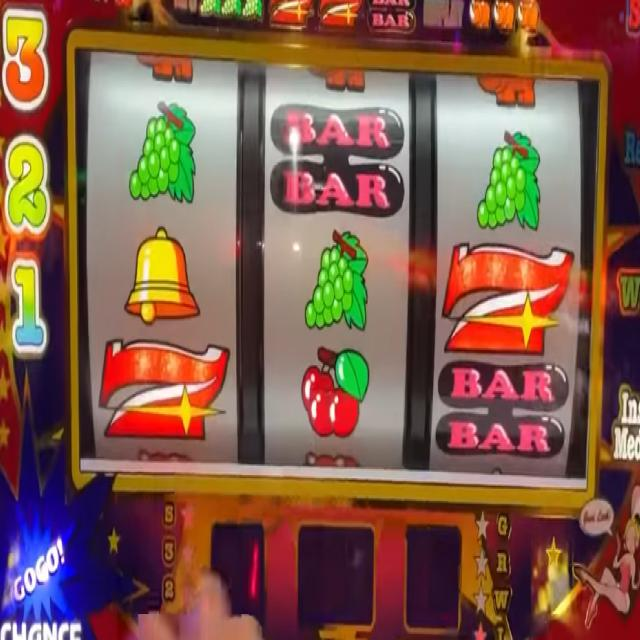bar: (270, 102, 406, 223), (435, 359, 570, 458), (365, 0, 417, 34)
bell: (123, 225, 200, 326)
cherry: (300, 342, 370, 442)
display: (74, 32, 602, 495)
elephant: (476, 69, 538, 111), (136, 53, 194, 86), (308, 64, 367, 95), (517, 0, 541, 32), (492, 0, 516, 29), (468, 0, 491, 28)
grape: (128, 99, 197, 208), (476, 127, 542, 235), (304, 226, 369, 332), (242, 0, 262, 20), (222, 0, 242, 18), (198, 0, 220, 16)
z: (441, 238, 576, 358), (97, 332, 231, 447), (268, 0, 315, 30), (318, 0, 363, 30)
